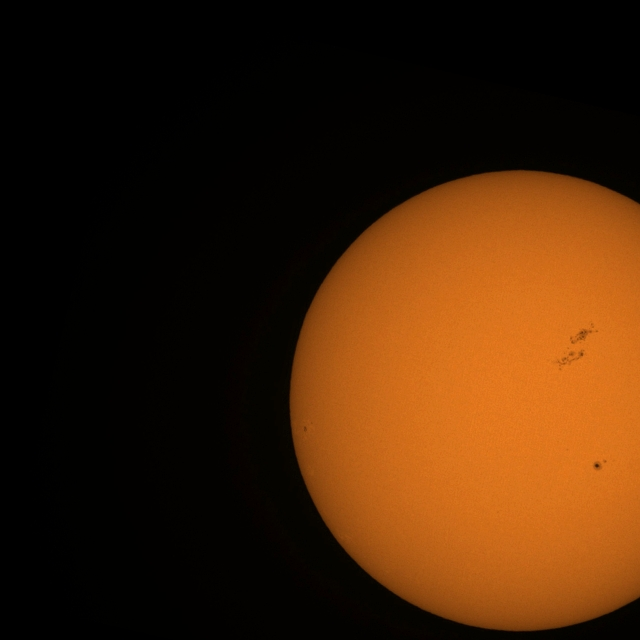sunspot: (554, 334, 587, 372), (568, 322, 598, 352), (592, 458, 608, 472), (303, 420, 314, 434)
